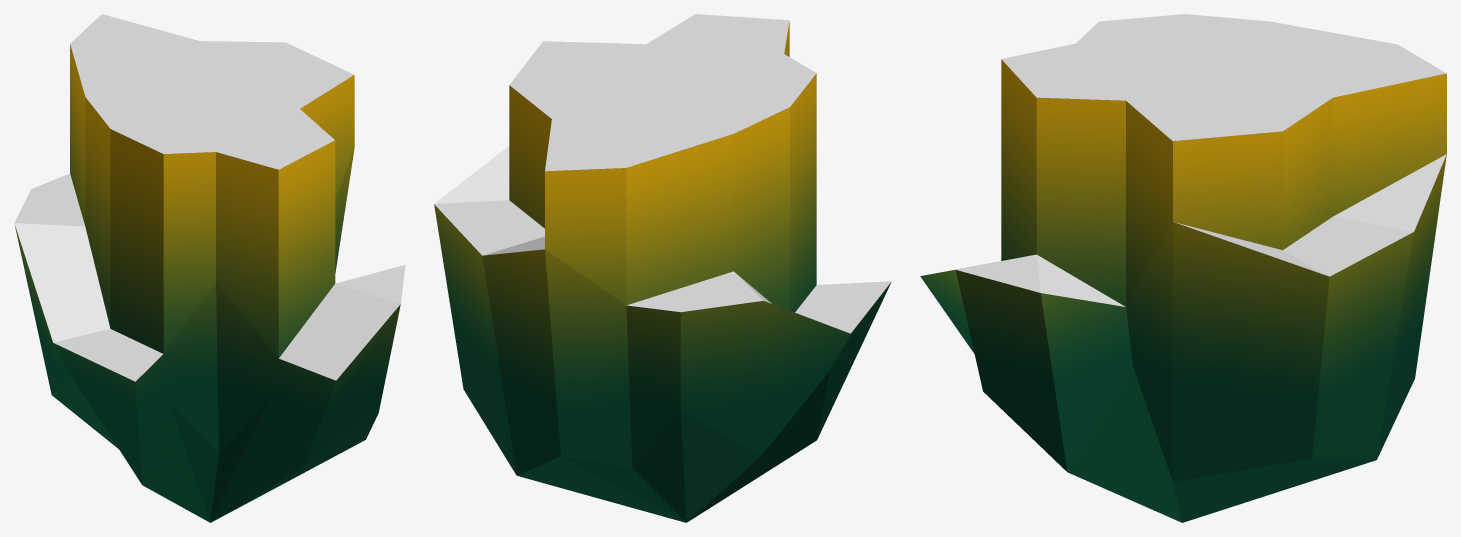
File: MOD_FLOATING_Island2.fbx
The picture shows the model from 3 angles, left to right: view 1: azimuth 30°, elevation 25°; view 2: azimuth 150°, elevation 25°; view 3: azimuth 270°, elevation 25°; orthographic projection. The views are drawn at different scales.
Parts seen in each view (by area): view 1: MOD_FLOATING_Isalnd2; view 2: MOD_FLOATING_Isalnd2; view 3: MOD_FLOATING_Isalnd2.
Boxes of the visible parts, x1,y1,x2,y2 form: MOD_FLOATING_Isalnd2: [14, 14, 405, 522]; MOD_FLOATING_Isalnd2: [434, 14, 891, 522]; MOD_FLOATING_Isalnd2: [920, 14, 1446, 522].
Size of the model in its own units: 3.12 by 3.81 by 3.99.
2 materials, 1 textured.
